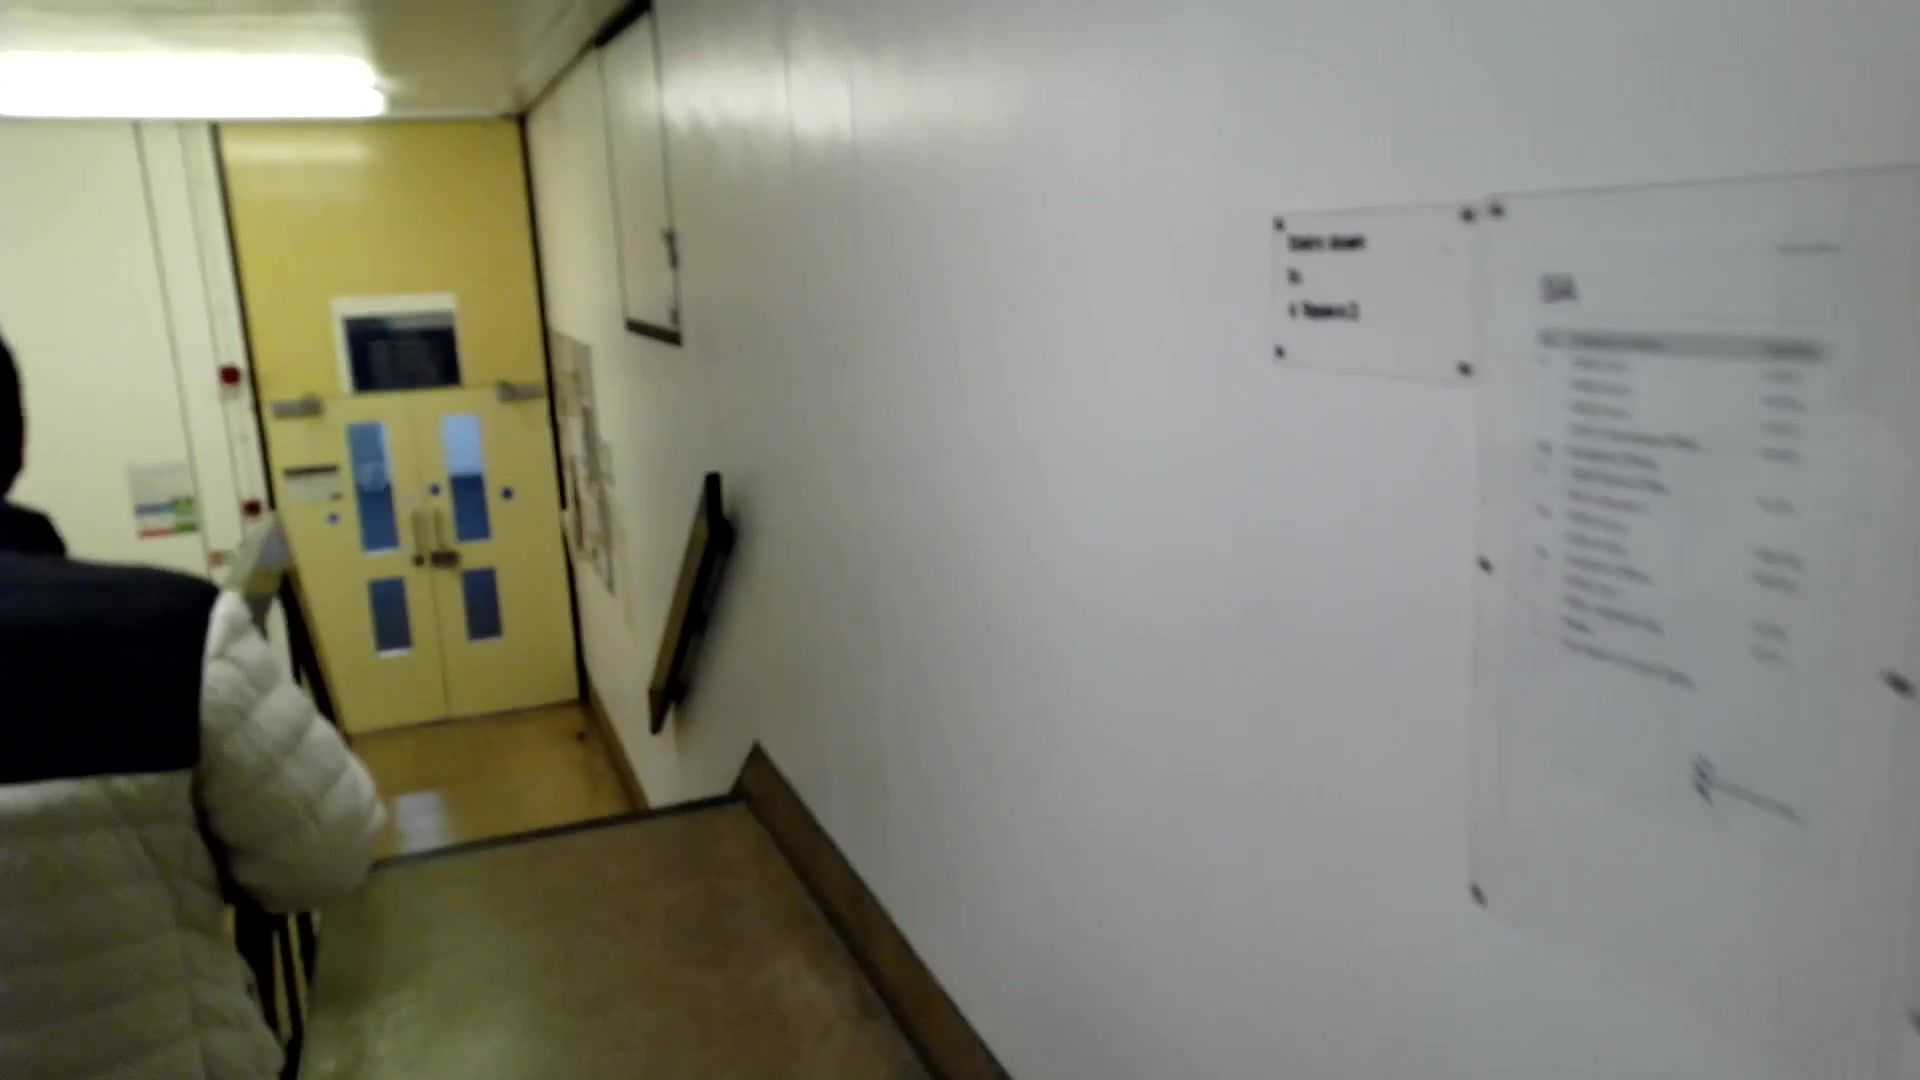Door: (232, 385, 618, 737)
